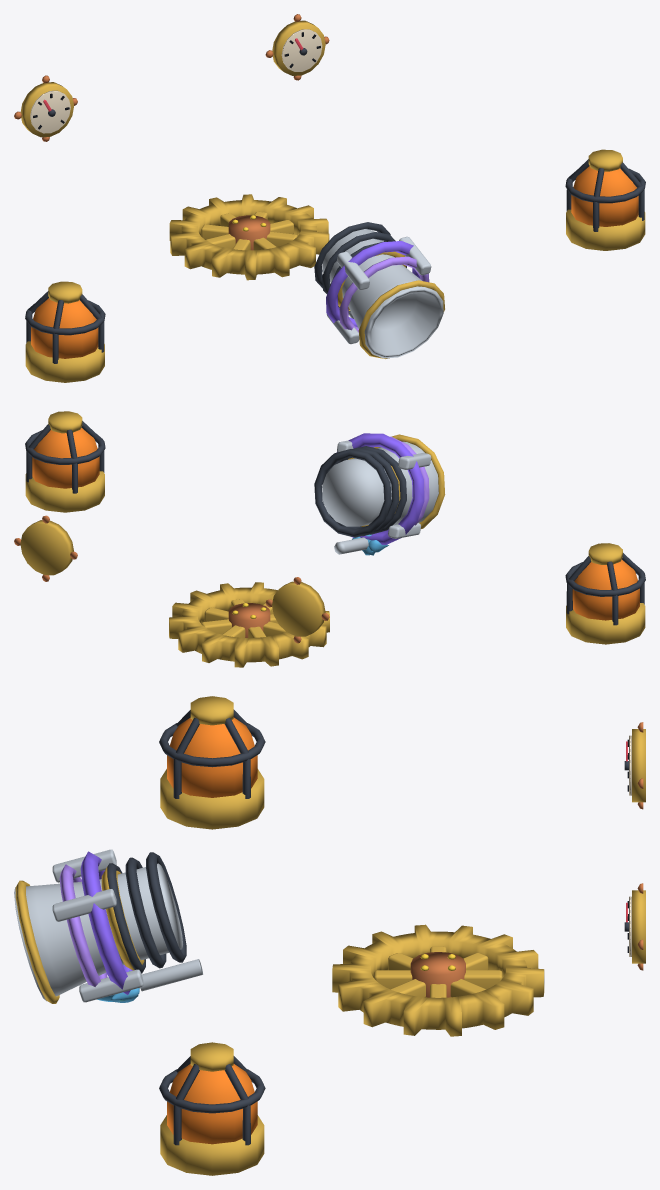
The model's file is FlamethrowerTurret_T2_Upgrades.fbx.
The picture shows the model from 3 angles, top to bottom: view 1: azimuth 30°, elevation 25°; view 2: azimuth 150°, elevation 25°; view 3: azimuth 270°, elevation 25°; orthographic projection. The views are drawn at different scales.
Parts seen in each view (by area): view 1: FlamethrowerTurretT2U3Gear1, FlamethrowerTurretT2U1Nozzle, FlamethrowerTurretT2U3Gauges, FlamethrowerTurretT2U2Lamp1, FlamethrowerTurretT2U2Lamp2, FlamethrowerTurretT2U2Lamp2Glow, FlamethrowerTurretT2U2Lamp1Glow, FlamethrowerTurretT2U5PlasmaGlow, FlamethrowerTurretT2U5Plasma; view 2: FlamethrowerTurretT2U1Nozzle, FlamethrowerTurretT2U3Gear1, FlamethrowerTurretT2U3Gauges, FlamethrowerTurretT2U2Lamp1, FlamethrowerTurretT2U2Lamp2, FlamethrowerTurretT2U2Lamp2Glow, FlamethrowerTurretT2U2Lamp1Glow, FlamethrowerTurretT2U5PlasmaGlow, FlamethrowerTurretT2U5Plasma, FlamethrowerTurretT2U2Pilot; view 3: FlamethrowerTurretT2U3Gear1, FlamethrowerTurretT2U1Nozzle, FlamethrowerTurretT2U2Lamp1, FlamethrowerTurretT2U2Lamp2, FlamethrowerTurretT2U2Lamp2Glow, FlamethrowerTurretT2U2Lamp1Glow, FlamethrowerTurretT2U5PlasmaGlow, FlamethrowerTurretT2U3Gauges, FlamethrowerTurretT2U5Plasma, FlamethrowerTurretT2U2Pilot.
Boxes of the visible parts, x1,y1,x2,y2 form: FlamethrowerTurretT2U3Gear1: [169, 194, 329, 280]; FlamethrowerTurretT2U1Nozzle: [314, 222, 444, 359]; FlamethrowerTurretT2U3Gauges: [14, 14, 329, 141]; FlamethrowerTurretT2U2Lamp1: [565, 149, 645, 250]; FlamethrowerTurretT2U2Lamp2: [25, 281, 105, 382]; FlamethrowerTurretT2U2Lamp2Glow: [31, 298, 98, 358]; FlamethrowerTurretT2U2Lamp1Glow: [571, 166, 638, 226]; FlamethrowerTurretT2U5PlasmaGlow: [326, 241, 429, 332]; FlamethrowerTurretT2U5Plasma: [326, 236, 431, 344]; FlamethrowerTurretT2U1Nozzle: [314, 434, 445, 537]; FlamethrowerTurretT2U3Gear1: [169, 582, 329, 667]; FlamethrowerTurretT2U3Gauges: [14, 515, 329, 643]; FlamethrowerTurretT2U2Lamp1: [25, 411, 105, 512]; FlamethrowerTurretT2U2Lamp2: [565, 543, 645, 644]; FlamethrowerTurretT2U2Lamp2Glow: [572, 559, 639, 620]; FlamethrowerTurretT2U2Lamp1Glow: [32, 428, 99, 488]; FlamethrowerTurretT2U5PlasmaGlow: [336, 433, 429, 544]; FlamethrowerTurretT2U5Plasma: [328, 440, 431, 538]; FlamethrowerTurretT2U2Pilot: [334, 537, 368, 554]; FlamethrowerTurretT2U3Gear1: [332, 924, 544, 1036]; FlamethrowerTurretT2U1Nozzle: [14, 852, 186, 1003]; FlamethrowerTurretT2U2Lamp1: [159, 1042, 265, 1175]; FlamethrowerTurretT2U2Lamp2: [159, 696, 265, 829]; FlamethrowerTurretT2U2Lamp2Glow: [167, 717, 257, 797]; FlamethrowerTurretT2U2Lamp1Glow: [167, 1064, 257, 1144]; FlamethrowerTurretT2U5PlasmaGlow: [59, 851, 132, 994]; FlamethrowerTurretT2U3Gauges: [624, 722, 645, 970]; FlamethrowerTurretT2U5Plasma: [52, 849, 143, 1002]; FlamethrowerTurretT2U2Pilot: [140, 959, 203, 991].
Bounding box in the file's own units: 328 × 78.32 × 224.
